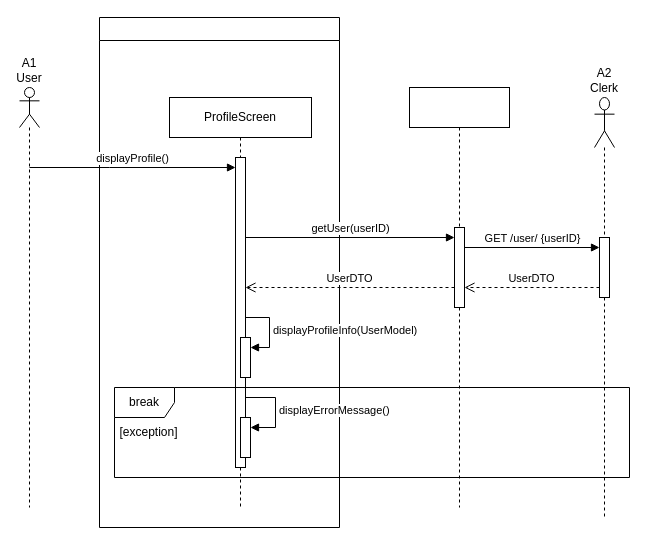
This 647x545 diagram has some shape labels left out. Each missing label, with the box of its shape:
ClerkSDK: (408, 86, 510, 508)
Mobile App: (98, 16, 340, 528)
